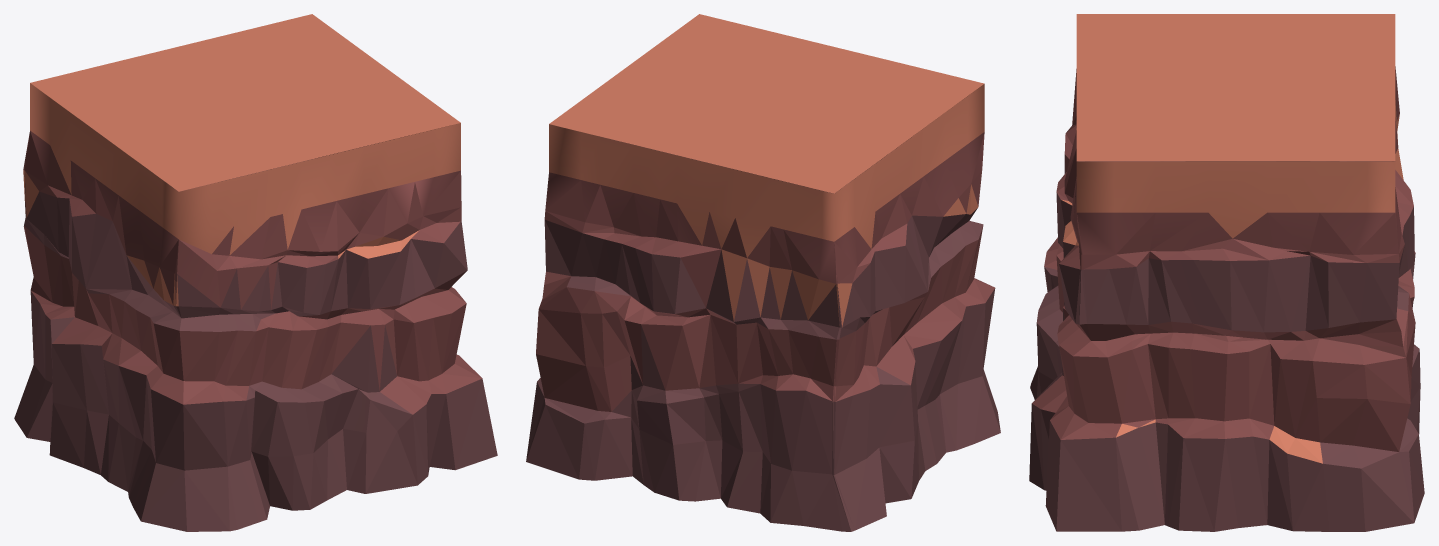
File: Canyon_Pillar2.fbx
3 renders of one model, left to right at view 1: azimuth 30°, elevation 25°; view 2: azimuth 150°, elevation 25°; view 3: azimuth 270°, elevation 25°, orthographic. The views are drawn at different scales.
Parts seen in each view (by area): view 1: mesh_node; view 2: mesh_node; view 3: mesh_node.
Boxes of the visible parts, x1,y1,x2,y2 form: mesh_node: (14, 14, 497, 531); mesh_node: (526, 14, 1000, 531); mesh_node: (1029, 14, 1424, 531).
Size of the model in its own units: 1652 by 1539 by 1549.
